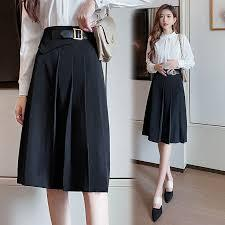skirt: (8, 18, 127, 214), (133, 63, 197, 175)
